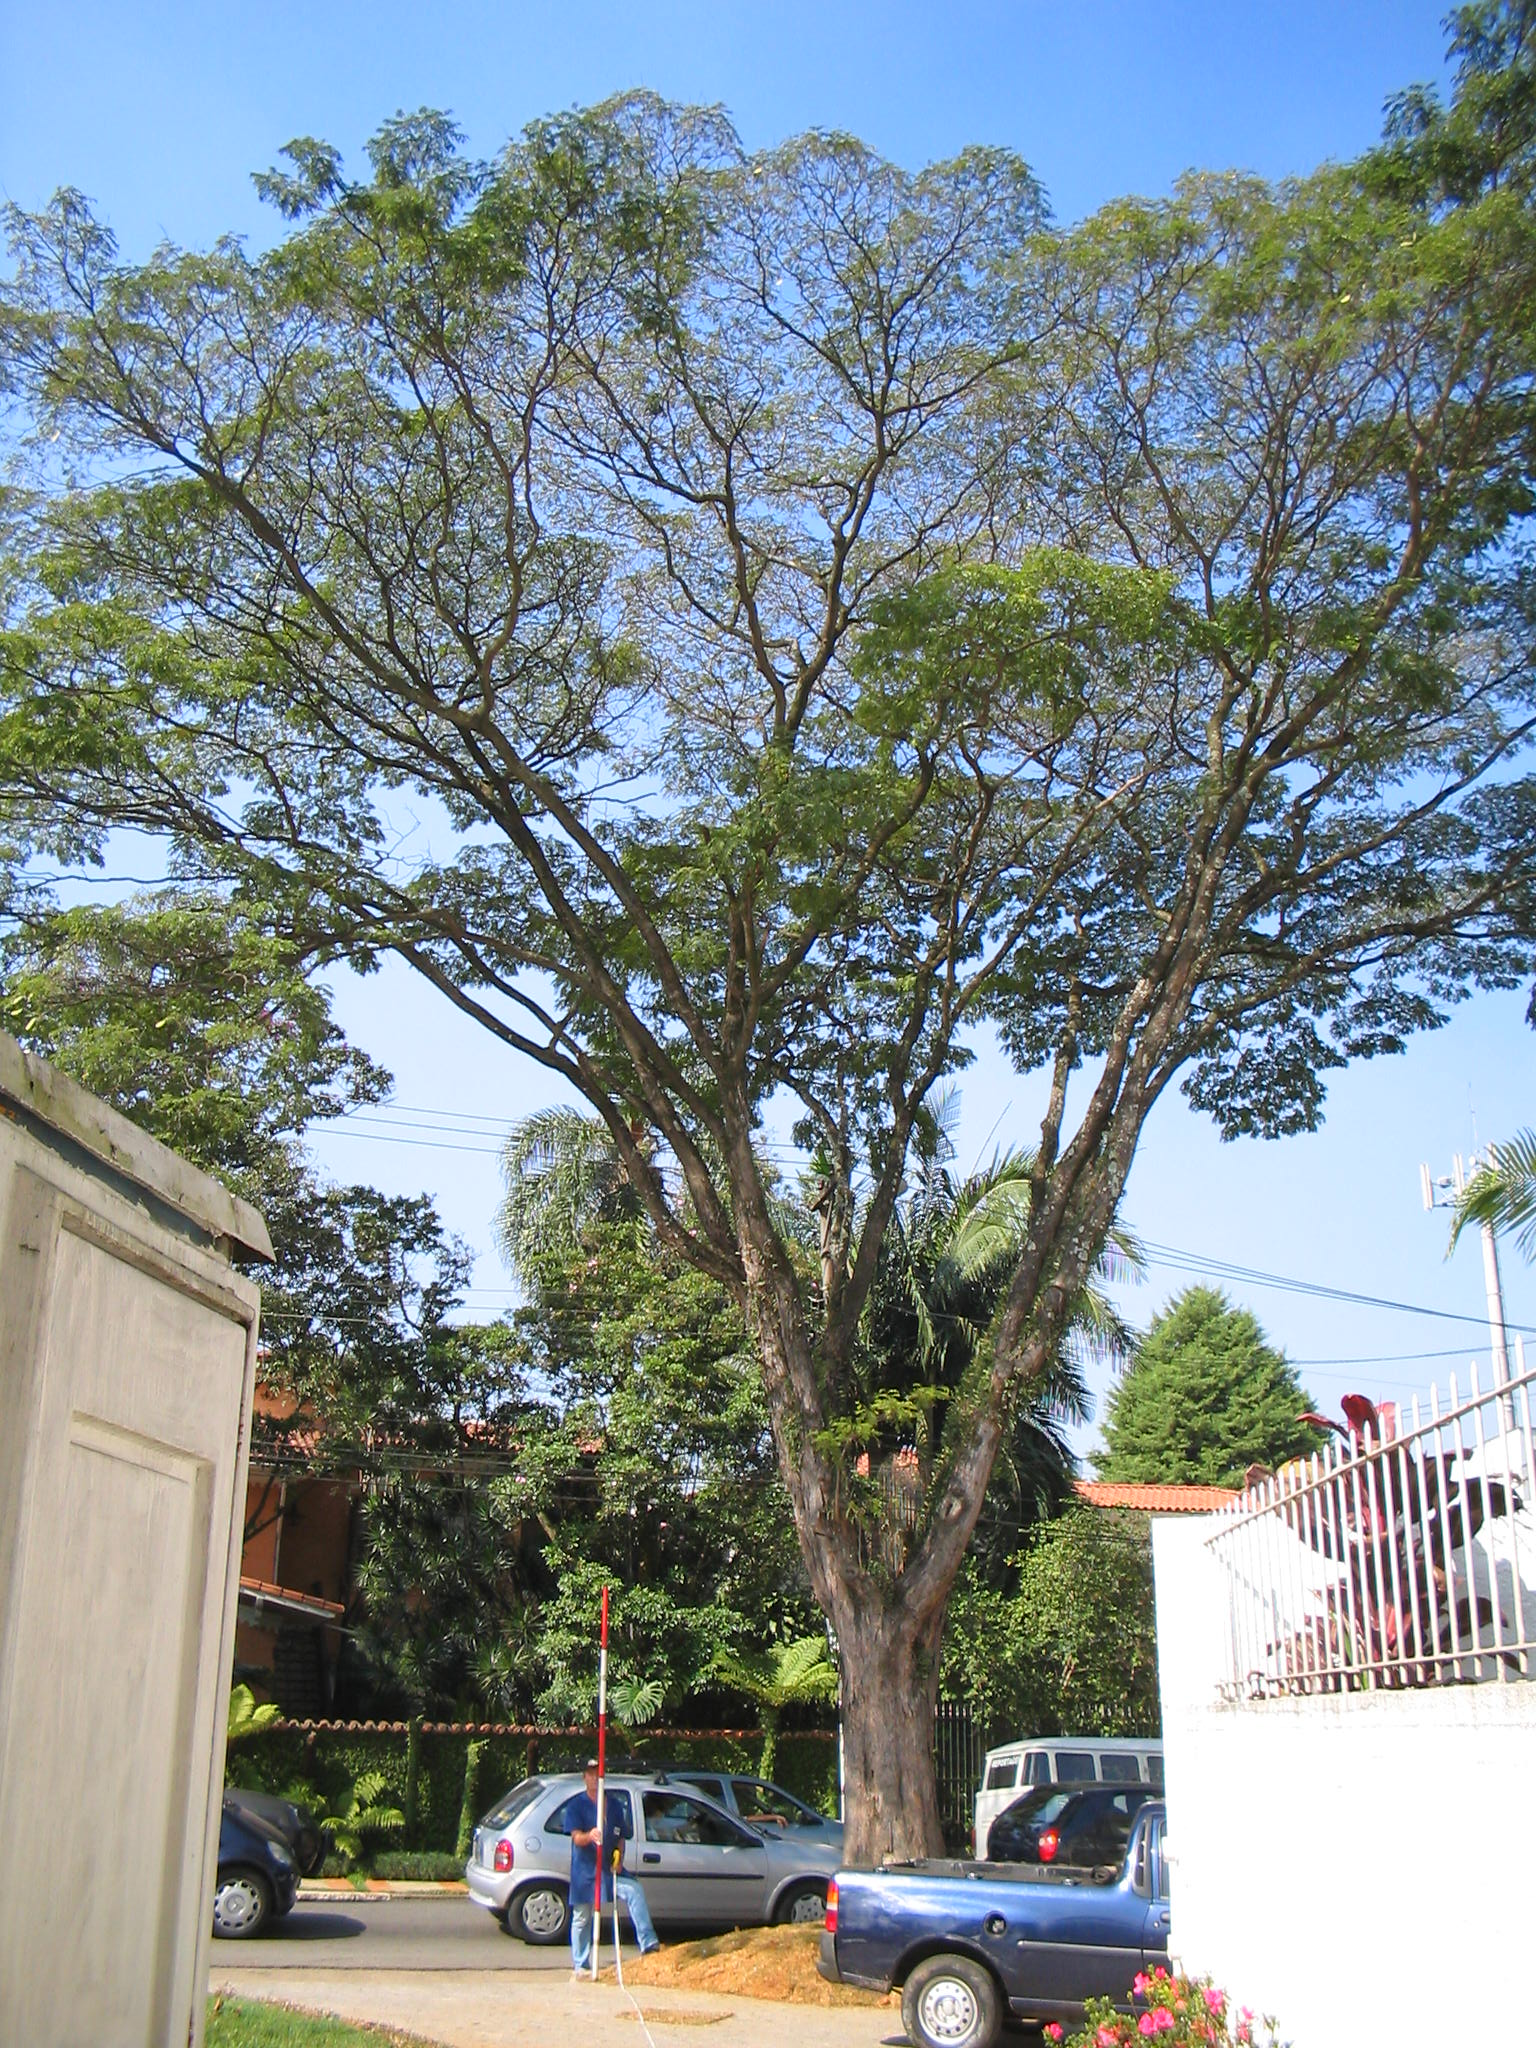crown: (13, 98, 1533, 1232)
stem: (808, 1643, 975, 1946)
stick: (574, 1580, 616, 1983)
tree: (3, 90, 1536, 1946)
